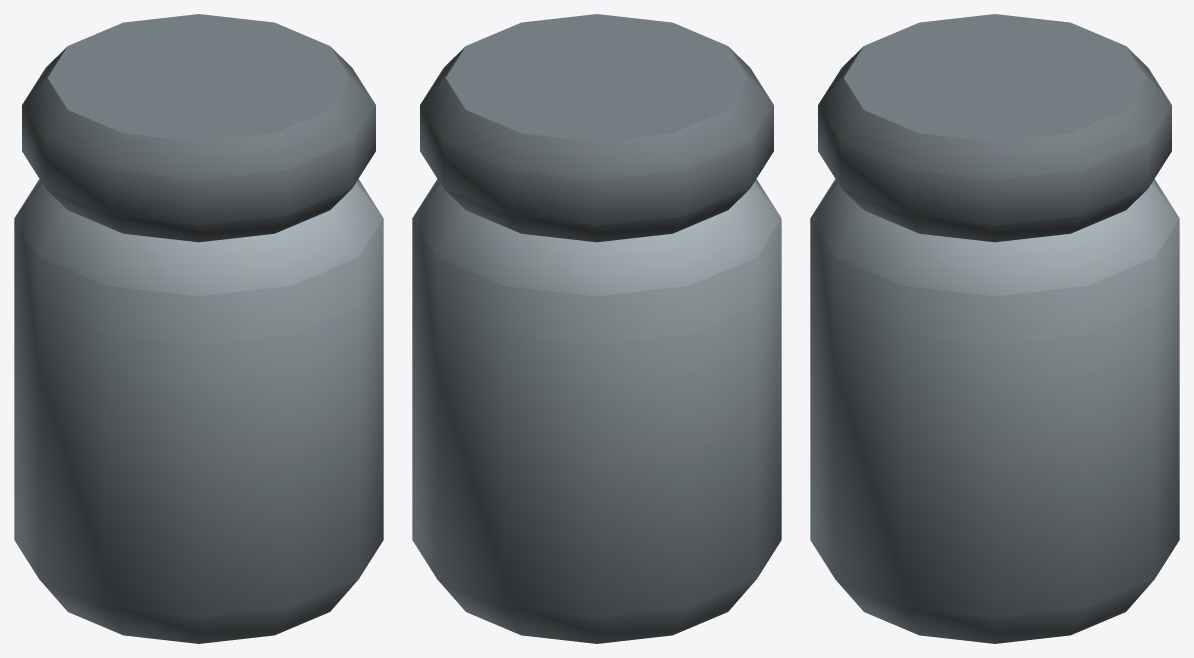
File: kaykit-restaurant-bits-jar-b-large.glb
3 views of the same model, side by side, from view 1: azimuth 30°, elevation 25°; view 2: azimuth 150°, elevation 25°; view 3: azimuth 270°, elevation 25° (orthographic).
Parts seen in each view (by area): view 1: jar_B_large; view 2: jar_B_large; view 3: jar_B_large.
Part boxes in pixels (x1,y1,x2,y2): jar_B_large: [14, 14, 383, 643]; jar_B_large: [412, 14, 781, 643]; jar_B_large: [810, 14, 1179, 643].
Size of the model in its own units: 0.5 by 0.75 by 0.5.
1 material, 1 textured.
